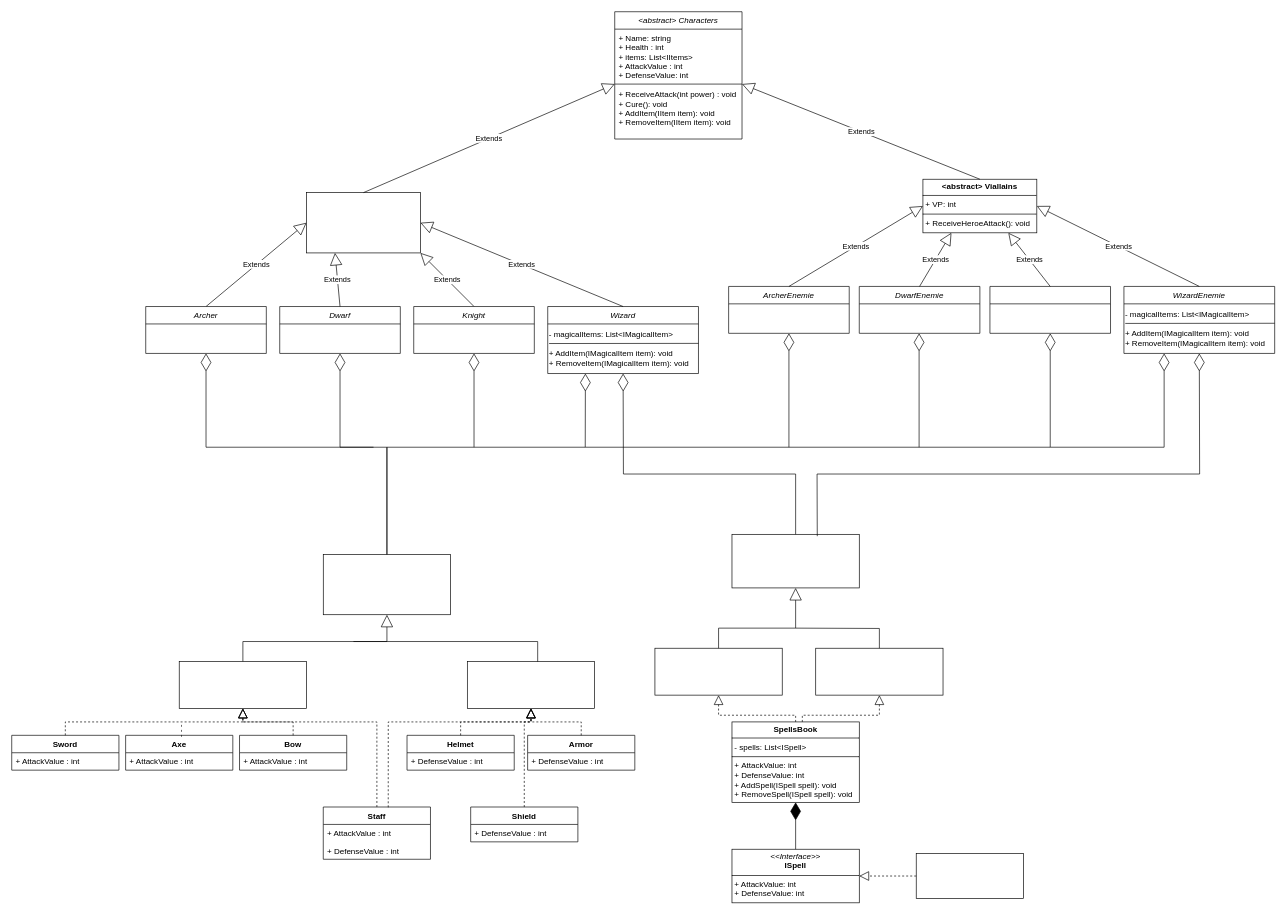
Some shapes in this 1287 by 915 pixel diagram are drawn without their labels. Here are the shapes that lost their labels. From the top down, the centre of each, then its label:
point 363,222: <abstract> Heroes - vp: int + AddVP(Villains villano): void
point 1050,309: KnightEnemie
point 795,561: <<Interface>> IMagicalItem
point 387,584: <<Interface>> IItem
point 243,685: <<Interface>> IAttackItem + AttackValue: int
point 531,685: <<Interface>> IDefenseItem + DefenseValue: int
point 718,671: <<Interface>> IMagicalAttackValue + AttackValue: int
point 879,671: <<Interface>> IMagicalDefenseItem + DefenseValue: int
point 969,875: SpellOne + AttackValue: int + DefenseValue: int
